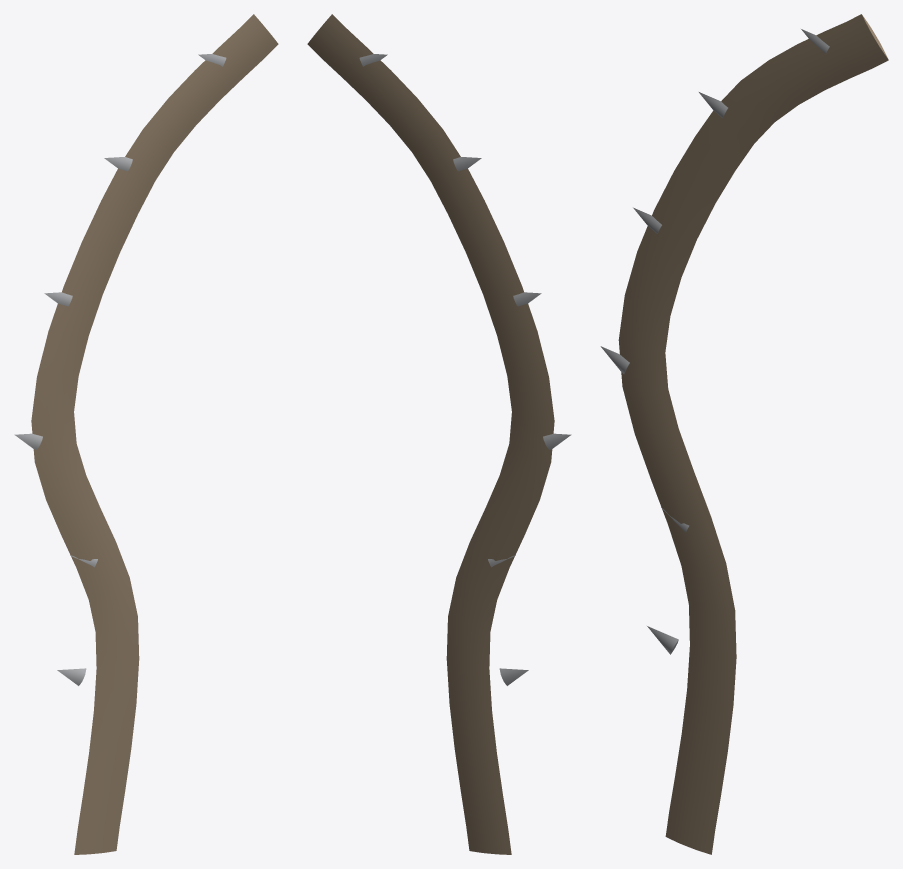
The model's file is bladed-scarf.glb.
3 renders of one model, left to right at view 1: azimuth 30°, elevation 25°; view 2: azimuth 150°, elevation 25°; view 3: azimuth 330°, elevation 25°, orthographic. The views are drawn at different scales.
Parts seen in each view (by area): view 1: bladed-scarf; view 2: bladed-scarf; view 3: bladed-scarf.
Part boxes in pixels (box(x1,y1,x2,y2)): bladed-scarf: box(14, 14, 278, 854); bladed-scarf: box(307, 14, 571, 854); bladed-scarf: box(600, 14, 888, 854).
Size of the model in its own units: 0.6192 by 1.8 by 0.01.
